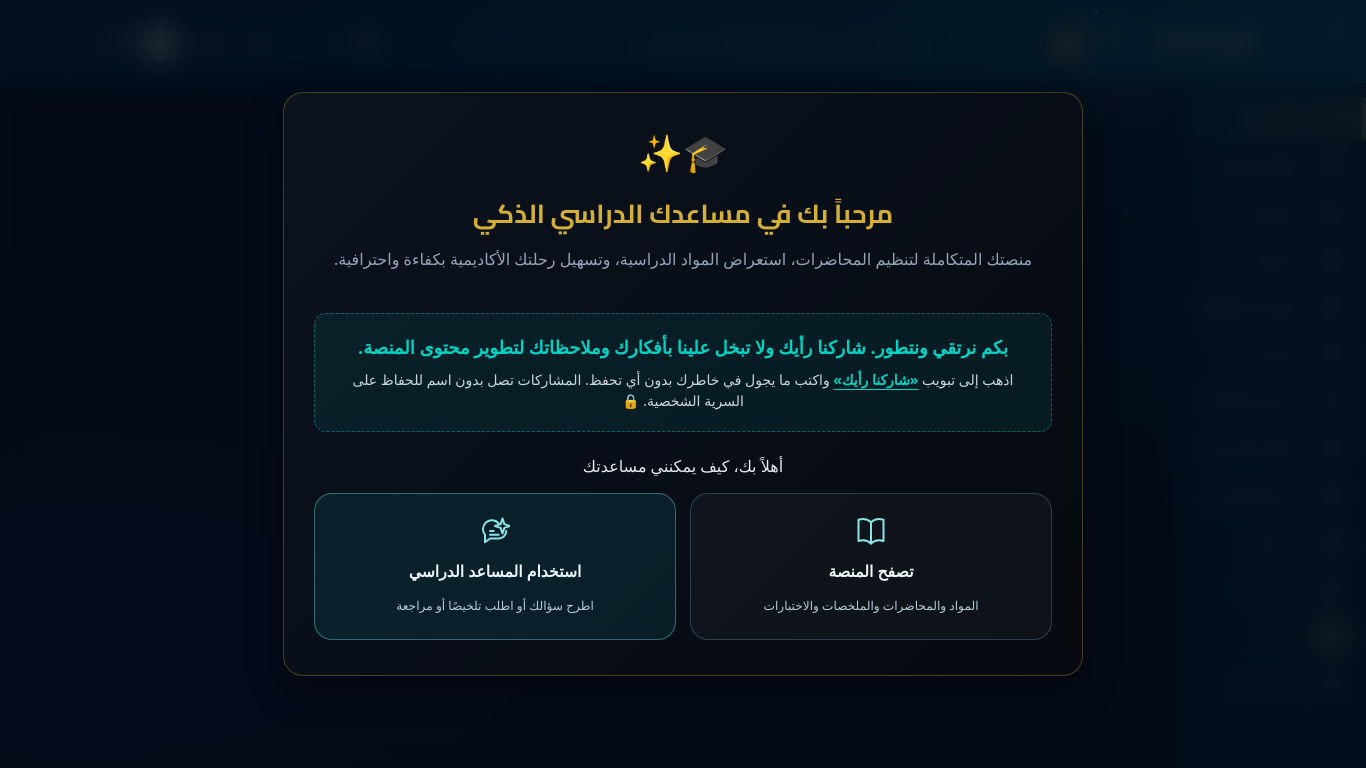
Test: reference application shell › does not expose registered account actions to guests
Check: the dialog "مرحباً بك في مساعدك الدراسي الذكي" is shown, box [283, 92, 1083, 676]
What coordinates should you click on to do the following:
click the button "تصفح المنصة"
I would click on:
 (871, 567)
Its box is [690, 493, 1052, 640].
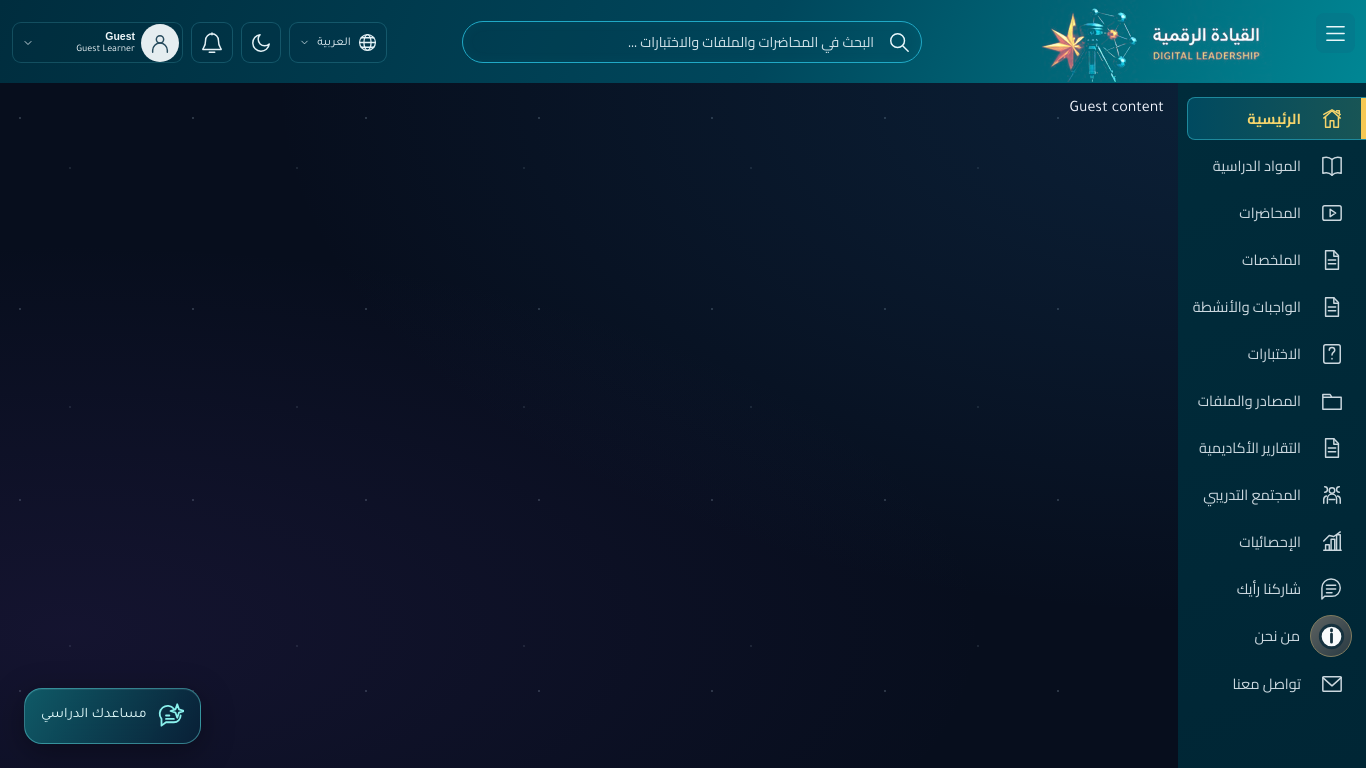
What coordinates should you click on to do the following:
click the button with aria-label "قائمة الحساب"
I would click on:
 (98, 42)
Its box is [12, 22, 183, 63].
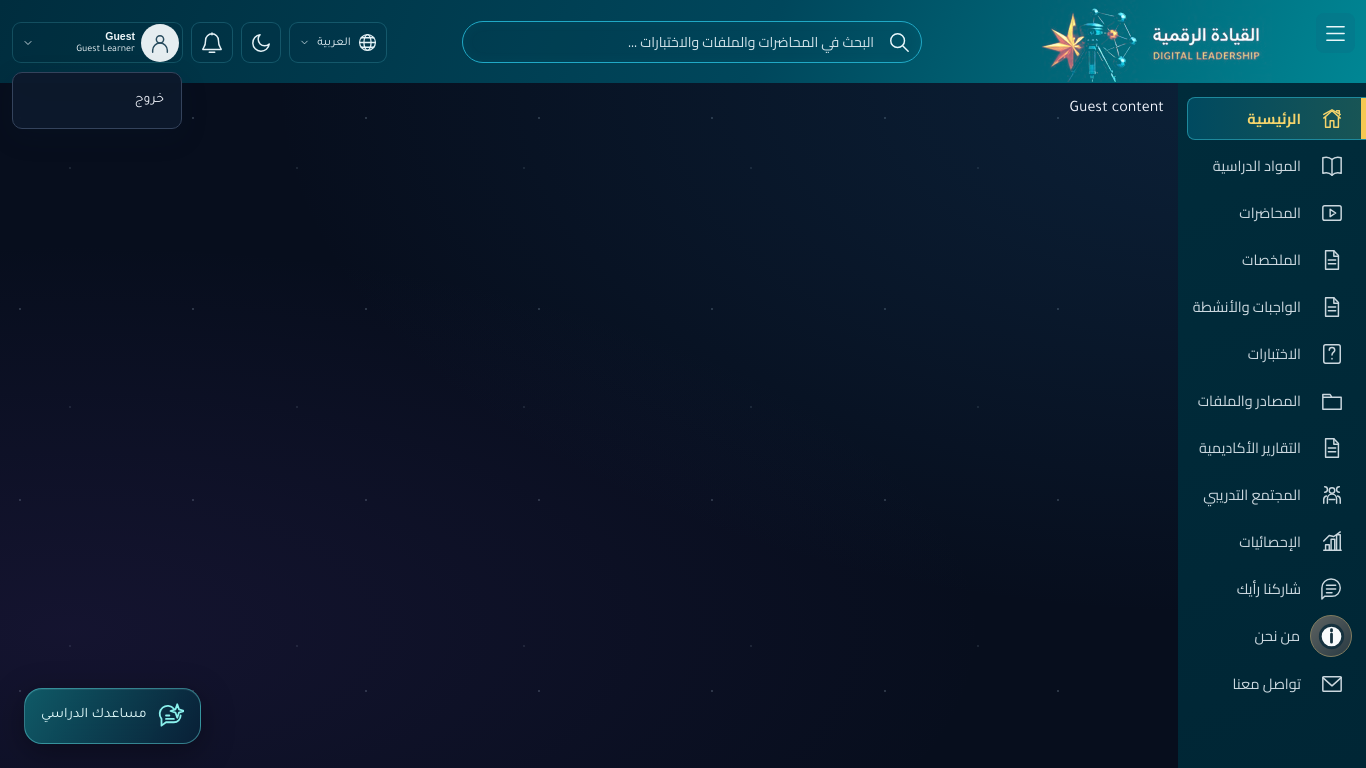
Check: the link "شاركنا رأيك" is shown, box [1237, 575, 1343, 602]
Check: the button "خروج" is shown, box [21, 81, 173, 120]
